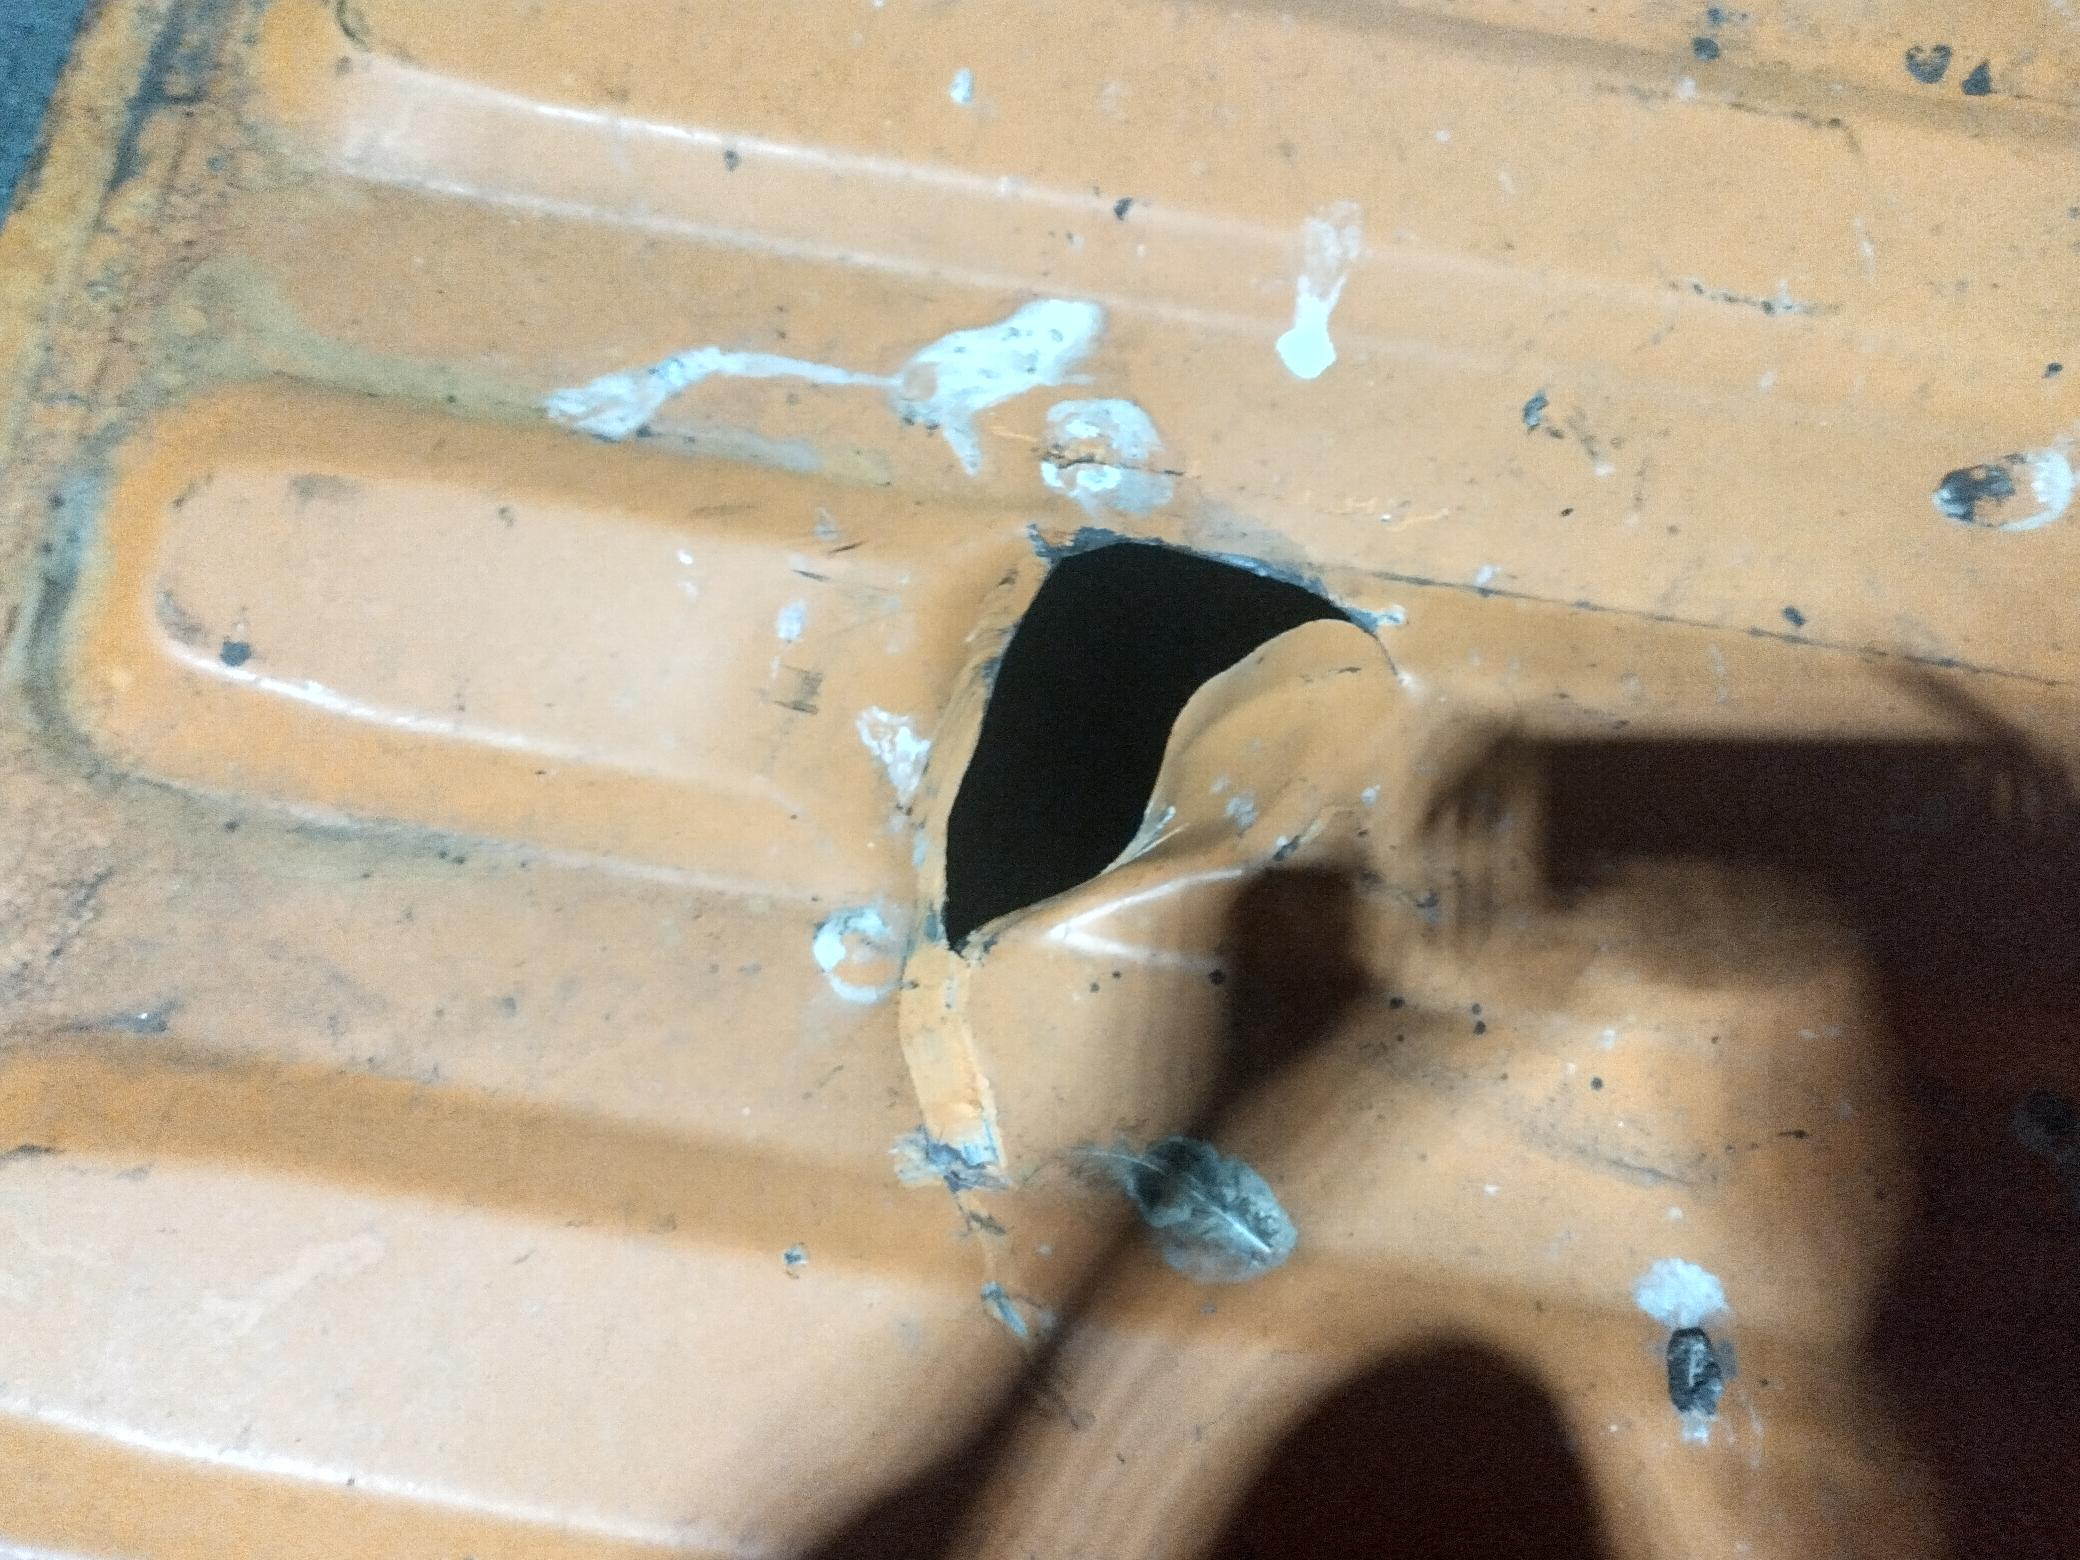hole: (811, 424, 1353, 1050)
